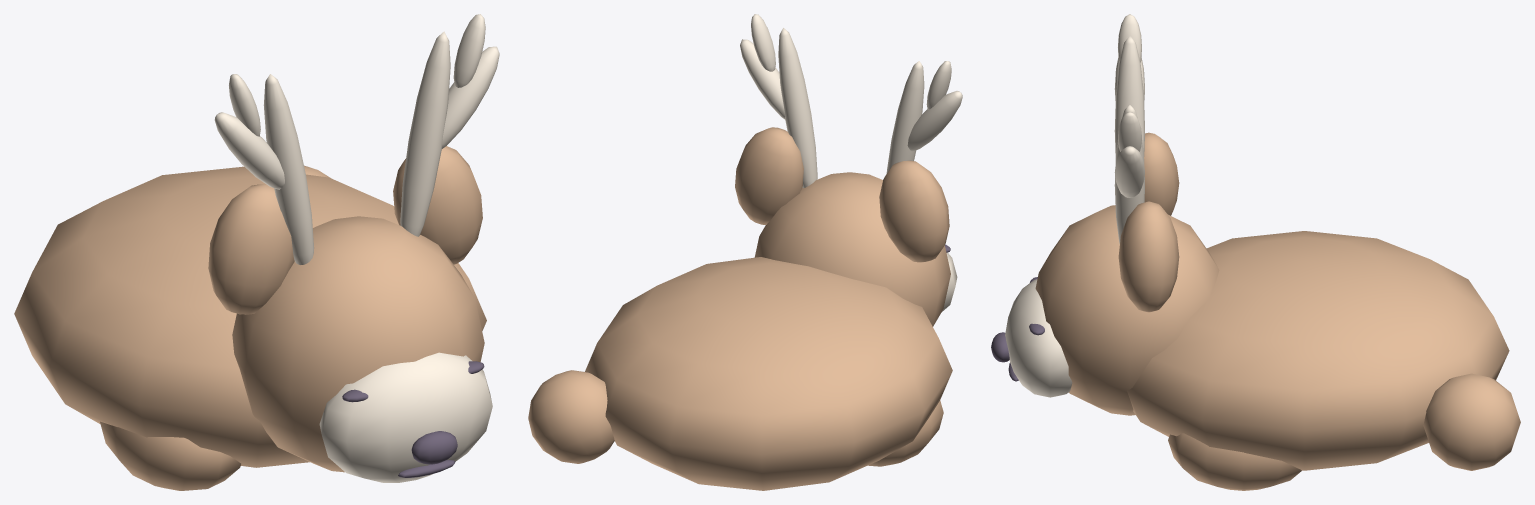
File: deer-reflection.glb
3 renders of one model, left to right at view 1: azimuth 30°, elevation 25°; view 2: azimuth 150°, elevation 25°; view 3: azimuth 270°, elevation 25°, orthographic. The views are drawn at different scales.
Parts seen in each view (by area): view 1: deer reflection offline illustration; view 2: deer reflection offline illustration; view 3: deer reflection offline illustration.
Part boxes in pixels (x1,y1,x2,y2): deer reflection offline illustration: (14, 14, 499, 490); deer reflection offline illustration: (528, 14, 962, 490); deer reflection offline illustration: (991, 14, 1520, 490).
Size of the model in its own units: 0.5 by 0.5479 by 0.698.
